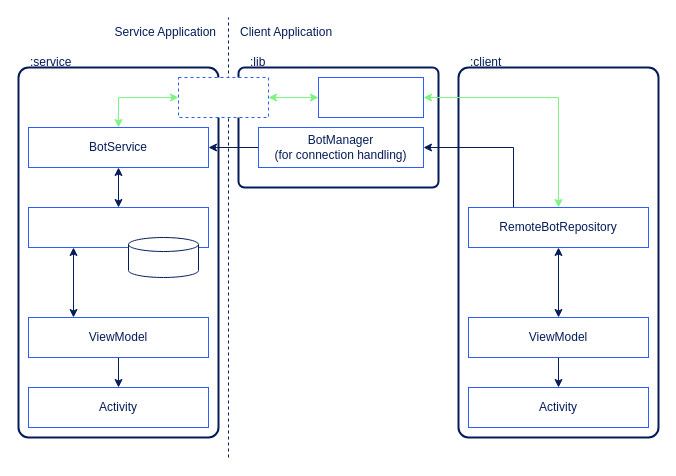
This 676x476 diagram has some shape labels left out. The box of each missing label's shape, as (x1, y1, x2, y2) in pixels:
Bot: (318, 76, 424, 118)
DataStore: (128, 236, 198, 278)
IBotService (AIDL): (178, 76, 268, 118)
LocalBotRepository: (28, 206, 208, 248)
